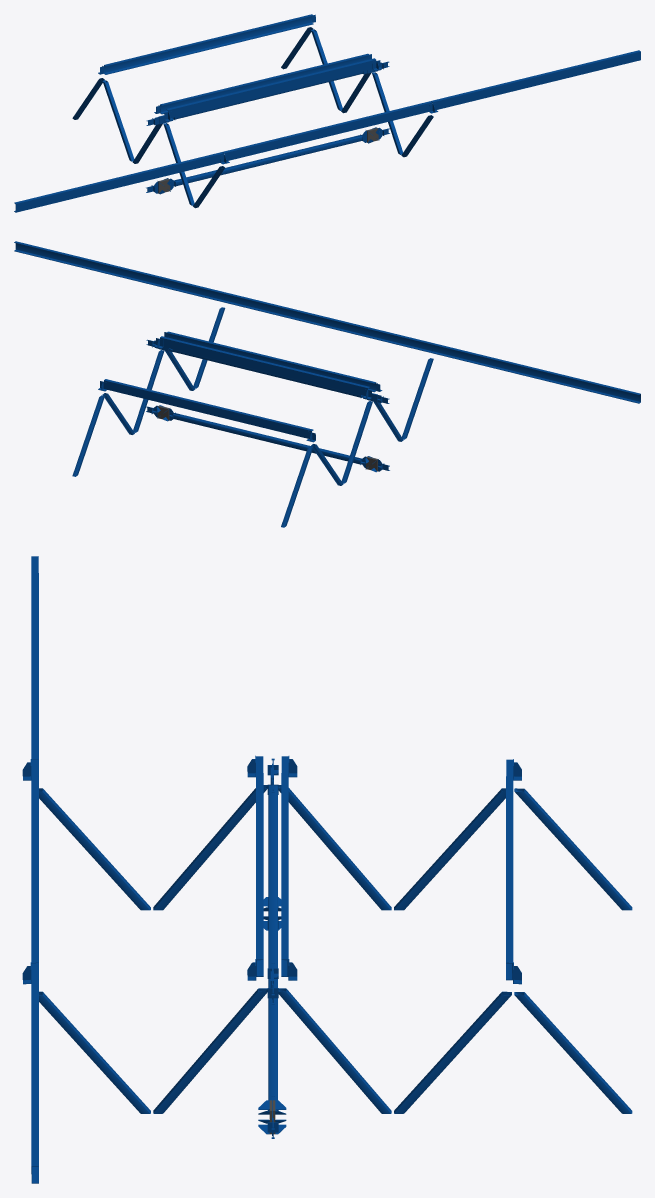
The model's file is GCC-AAV-13220-30.nwd(137).fbx.
3 views of the same model, one above another, from view 1: azimuth 30°, elevation 25°; view 2: azimuth 150°, elevation 25°; view 3: azimuth 270°, elevation 25° (orthographic). The views are drawn at different scales.
Visible parts, largest first — view 1: Группа фасетов (×12); view 2: Группа фасетов (×13); view 3: Группа фасетов (×18).
Boxes of the visible parts, x1=… form: Группа фасетов (×12): x1=14, y1=14, x2=640, y2=212; Группа фасетов (×13): x1=14, y1=241, x2=640, y2=527; Группа фасетов (×18): x1=31, y1=556, x2=632, y2=1183.
Bounding box in the file's own units: 708 × 91.66 × 299.
